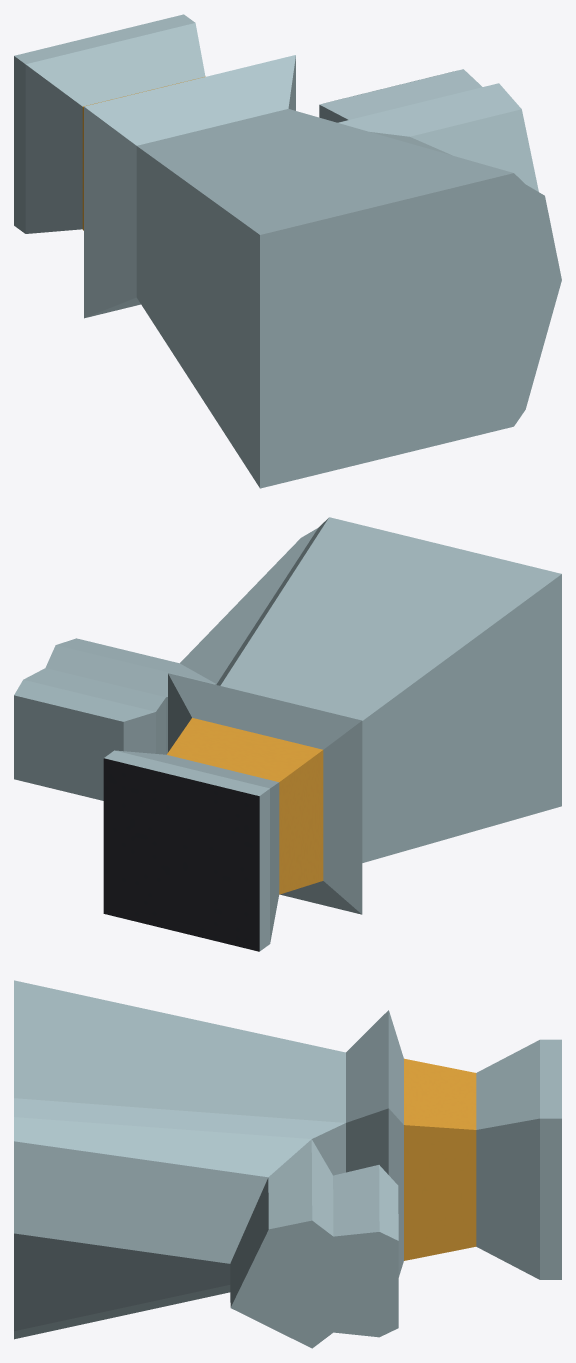
File: death_ice_gate.fbx
The picture shows the model from 3 angles, top to bottom: view 1: azimuth 30°, elevation 25°; view 2: azimuth 150°, elevation 25°; view 3: azimuth 270°, elevation 25°; orthographic projection. The views are drawn at different scales.
Parts seen in each view (by area): view 1: desert_castle.003; view 2: desert_castle.003; view 3: desert_castle.003.
Boxes of the visible parts, x1,y1,x2,y2 form: desert_castle.003: (14, 14, 561, 488); desert_castle.003: (14, 517, 561, 951); desert_castle.003: (14, 980, 561, 1348).
Size of the model in its own units: 271 by 166 by 342.
